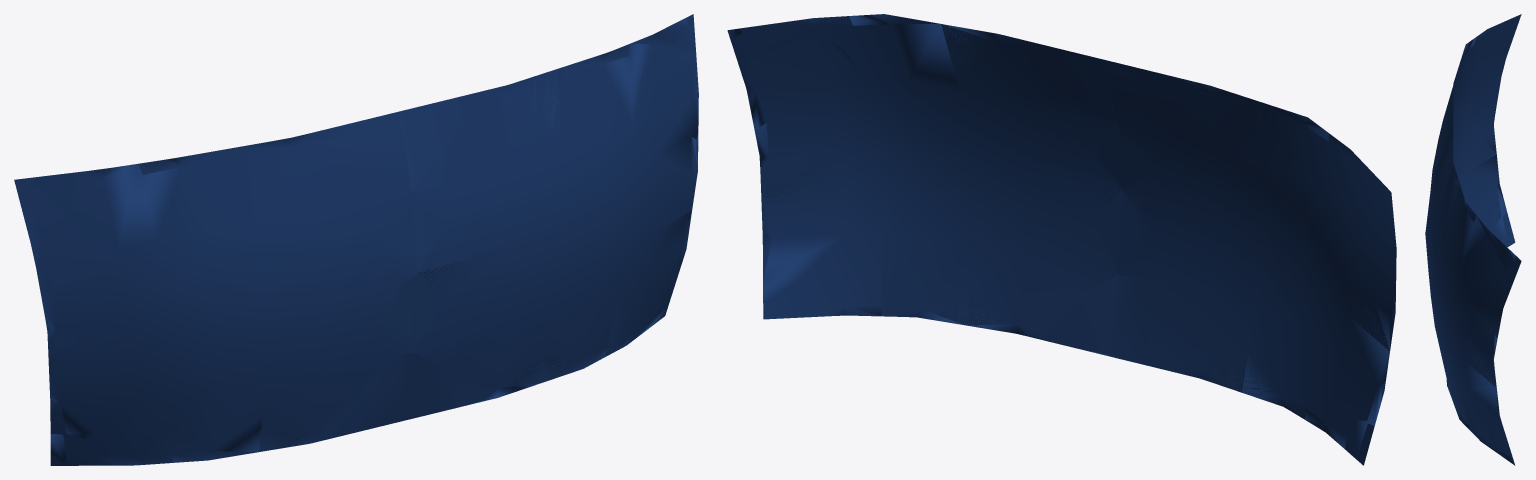
File: rear_bumper.glb
The picture shows the model from 3 angles, left to right: view 1: azimuth 30°, elevation 25°; view 2: azimuth 150°, elevation 25°; view 3: azimuth 270°, elevation 25°; orthographic projection. The views are drawn at different scales.
Parts seen in each view (by area): view 1: GEO_Rear_Bumper; view 2: GEO_Rear_Bumper; view 3: GEO_Rear_Bumper.
Boxes of the visible parts, x1,y1,x2,y2 form: GEO_Rear_Bumper: [14, 14, 698, 465]; GEO_Rear_Bumper: [727, 14, 1396, 465]; GEO_Rear_Bumper: [1425, 14, 1521, 465].
Bounding box in the file's own units: 1.88 × 0.8201 × 0.3101.
